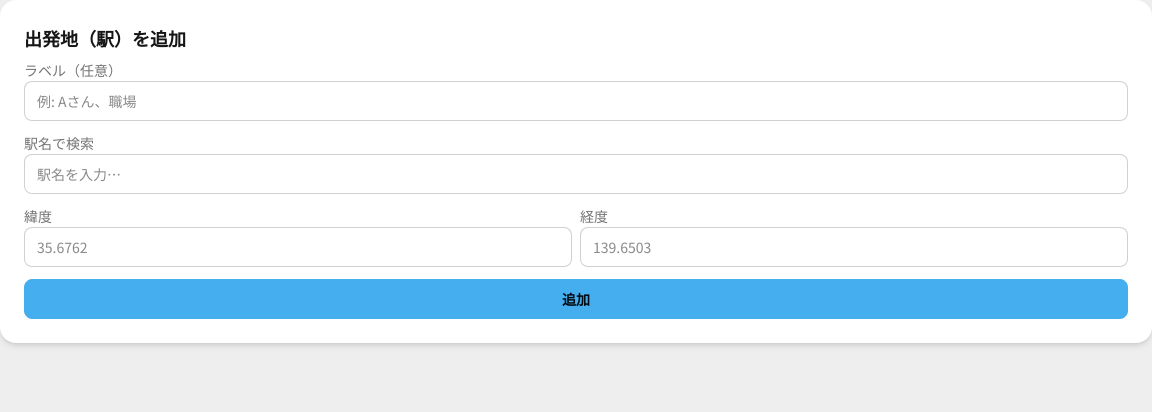
LocationForm › station search › should show no results message
In the field named "駅名検索": (576, 174) [24, 154, 1128, 194], type "zzz"
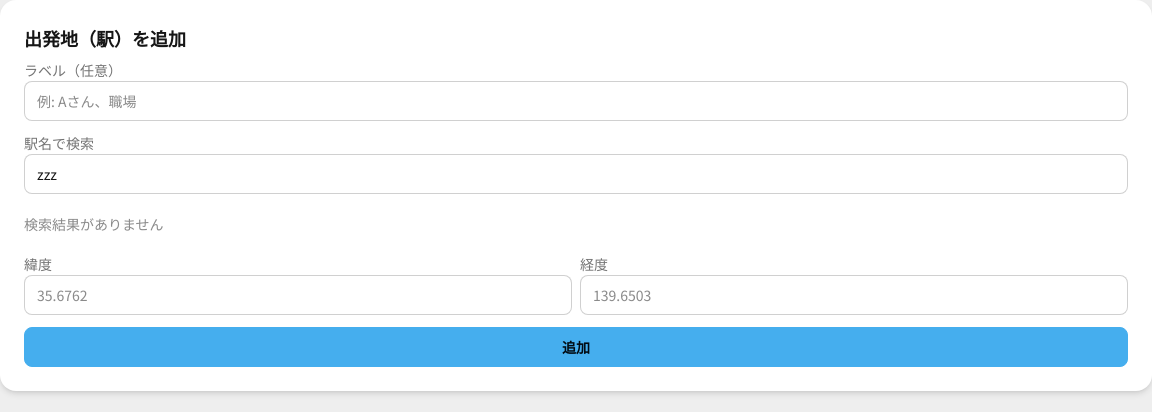
Result: the text "検索結果がありません" is shown at [24, 214, 164, 234]
